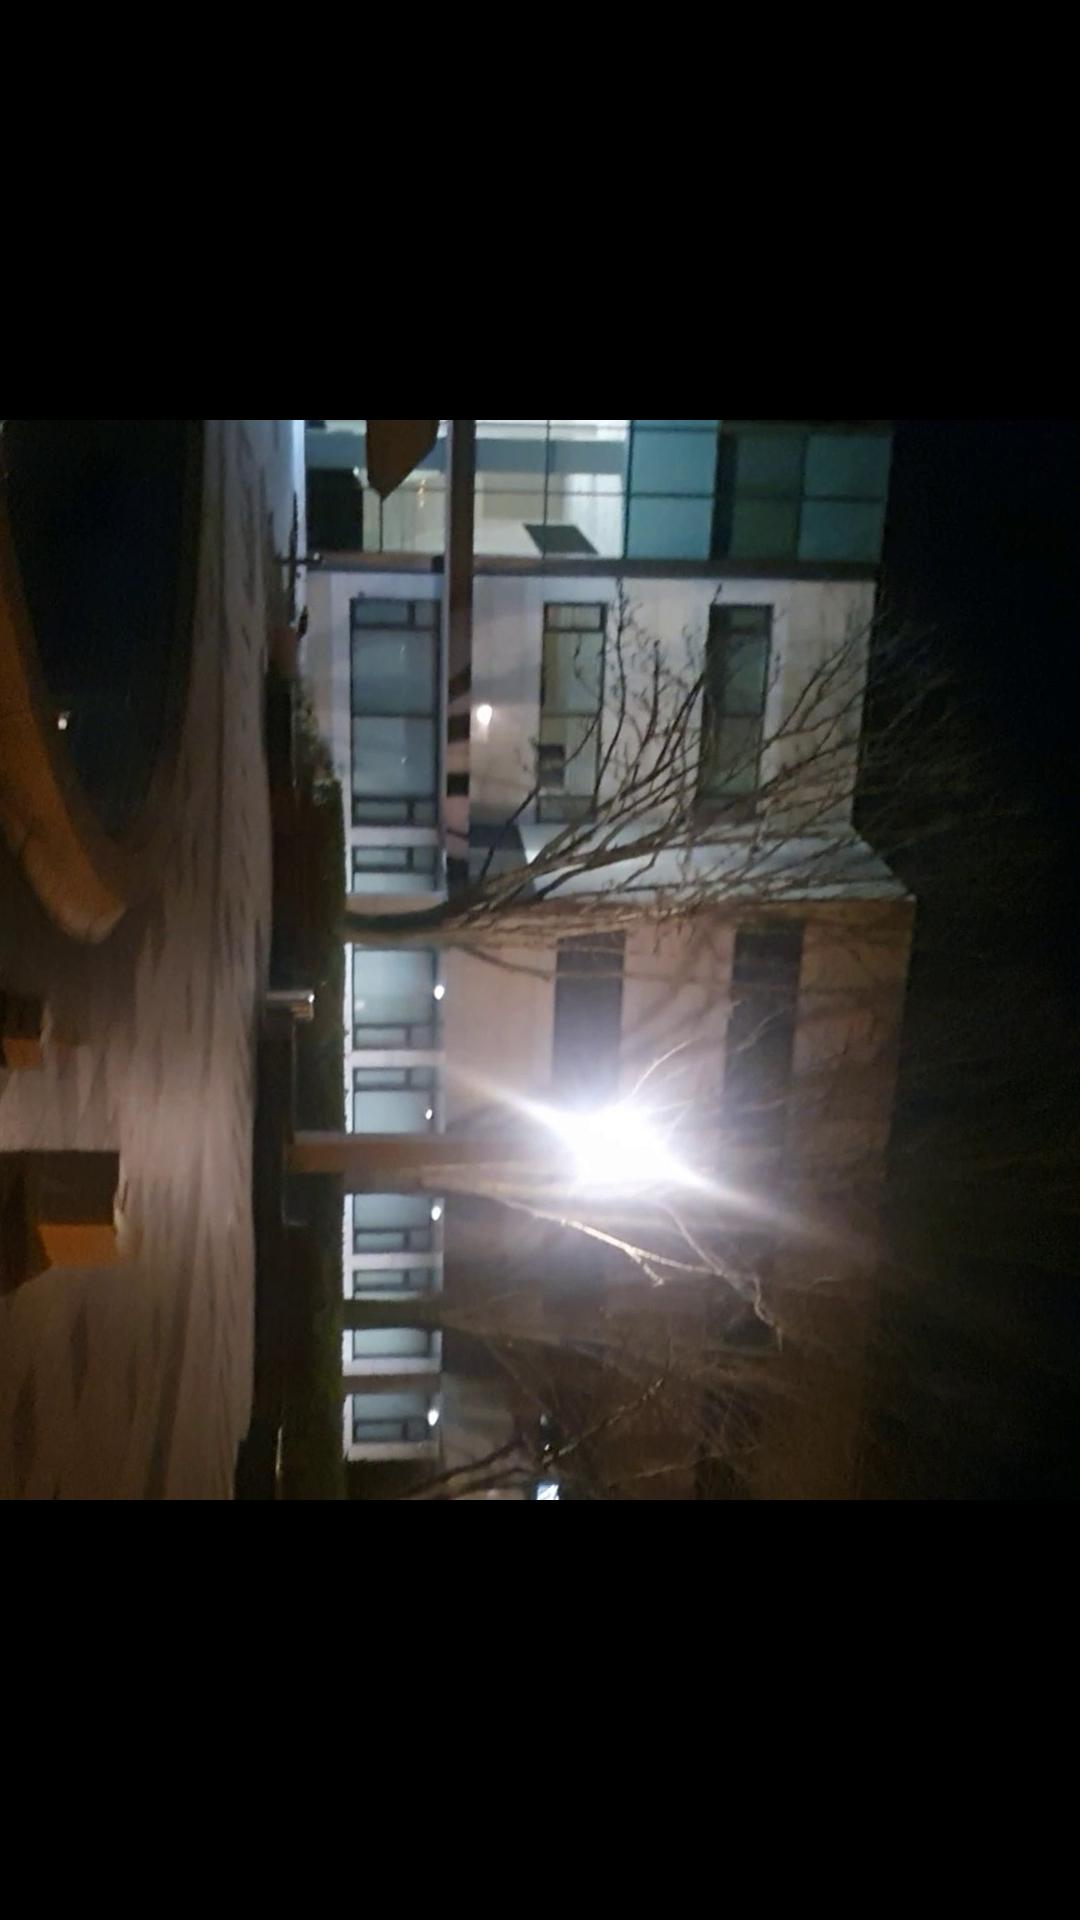Box: (8, 1141, 145, 1290), (0, 992, 57, 1077)
